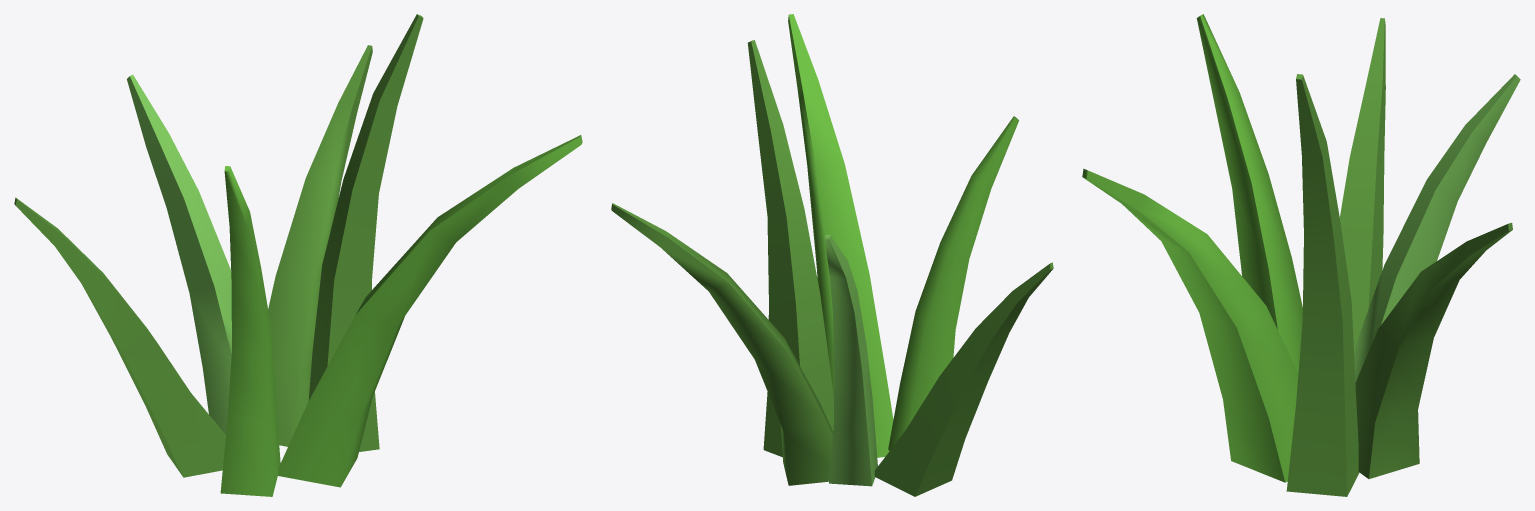
File: Grass_Green_2.fbx
The picture shows the model from 3 angles, left to right: view 1: azimuth 30°, elevation 25°; view 2: azimuth 150°, elevation 25°; view 3: azimuth 270°, elevation 25°; orthographic projection. The views are drawn at different scales.
Parts seen in each view (by area): view 1: Cube.025, Cube.022, Cube.023, Cube.026, Cube.021, Cube.024; view 2: Cube.023, Cube.025, Cube.022, Cube.024, Cube.026, Cube.021; view 3: Cube.025, Cube.023, Cube.022, Cube.026, Cube.021, Cube.024.
Boxes of the visible parts, x1=… form: Cube.025: x1=278, y1=135, x2=582, y2=487; Cube.022: x1=268, y1=45, x2=372, y2=446; Cube.023: x1=308, y1=14, x2=423, y2=451; Cube.026: x1=220, y1=166, x2=280, y2=496; Cube.021: x1=127, y1=74, x2=231, y2=434; Cube.024: x1=14, y1=197, x2=225, y2=477; Cube.023: x1=747, y1=40, x2=833, y2=457; Cube.025: x1=788, y1=14, x2=893, y2=457; Cube.022: x1=611, y1=203, x2=833, y2=485; Cube.024: x1=874, y1=262, x2=1053, y2=496; Cube.026: x1=888, y1=116, x2=1018, y2=450; Cube.021: x1=825, y1=235, x2=877, y2=486; Cube.025: x1=1082, y1=168, x2=1298, y2=482; Cube.023: x1=1286, y1=74, x2=1359, y2=496; Cube.022: x1=1355, y1=222, x2=1512, y2=478; Cube.026: x1=1196, y1=14, x2=1302, y2=372; Cube.021: x1=1354, y1=74, x2=1520, y2=382; Cube.024: x1=1340, y1=18, x2=1385, y2=353.
Bounding box in the file's own units: 114 × 108 × 96.77.
